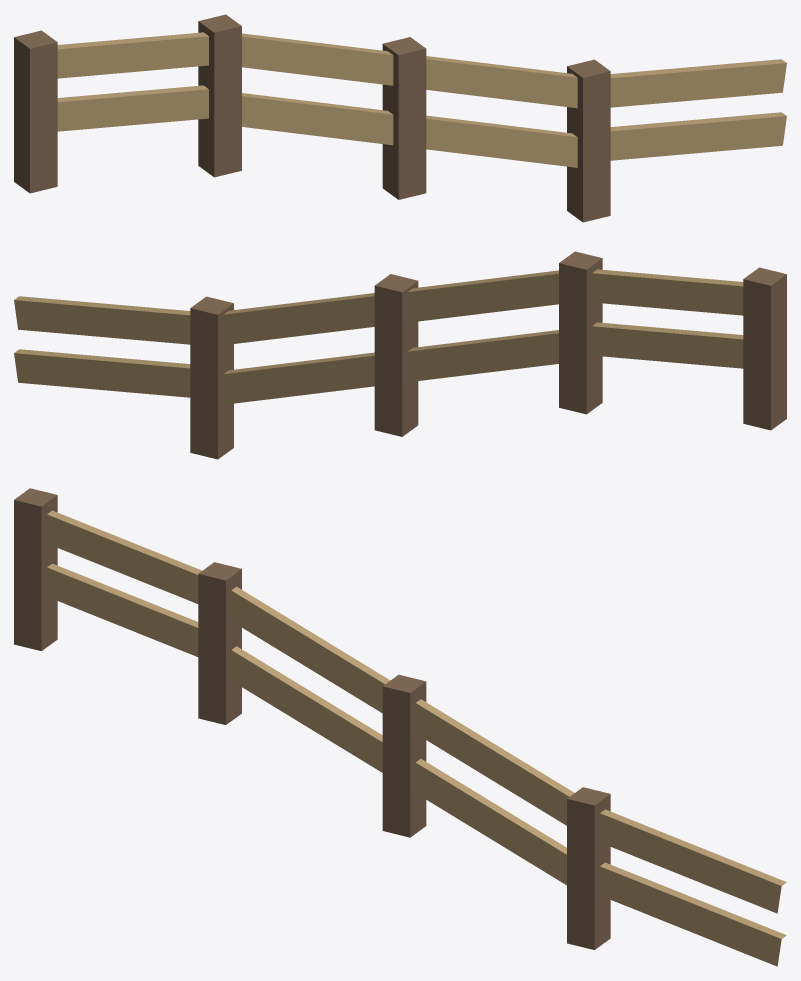
Rendered from Hilly_Prop_Fence_Hill_Gentle.glb.
The picture shows the model from 3 angles, top to bottom: view 1: azimuth 30°, elevation 25°; view 2: azimuth 150°, elevation 25°; view 3: azimuth 330°, elevation 25°; orthographic projection.
Visible parts, largest first — view 1: Hilly_Prop_Fence_Hill_Gentle; view 2: Hilly_Prop_Fence_Hill_Gentle; view 3: Hilly_Prop_Fence_Hill_Gentle.
Part boxes in pixels (x1=…): Hilly_Prop_Fence_Hill_Gentle: x1=14, y1=14, x2=786, y2=222; Hilly_Prop_Fence_Hill_Gentle: x1=14, y1=251, x2=786, y2=459; Hilly_Prop_Fence_Hill_Gentle: x1=14, y1=488, x2=786, y2=966.
Bounding box in the file's own units: 4.14 × 1.6 × 0.15.
